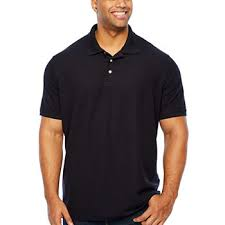C_polo shirt: (39, 29, 192, 197)
